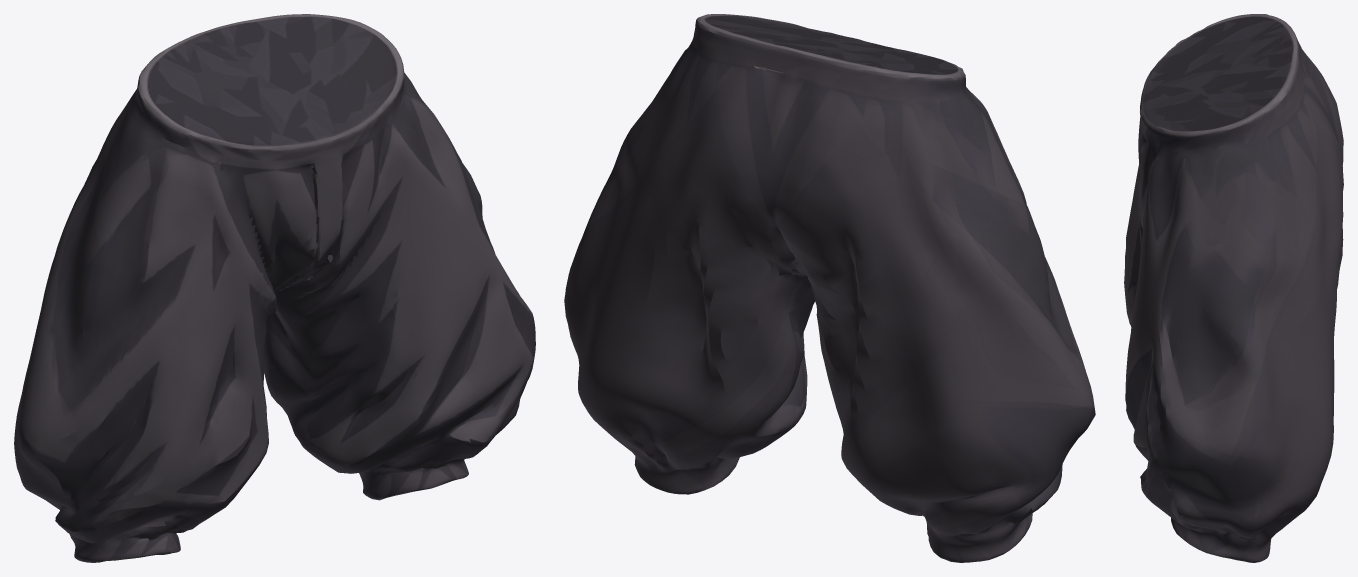
File: ataho-pants.glb
3 renders of one model, left to right at view 1: azimuth 30°, elevation 25°; view 2: azimuth 150°, elevation 25°; view 3: azimuth 270°, elevation 25°, orthographic. The views are drawn at different scales.
Size of the model in its own units: 1.89 by 1.73 by 0.7848.
Materials: 1 (1 with a texture image).
